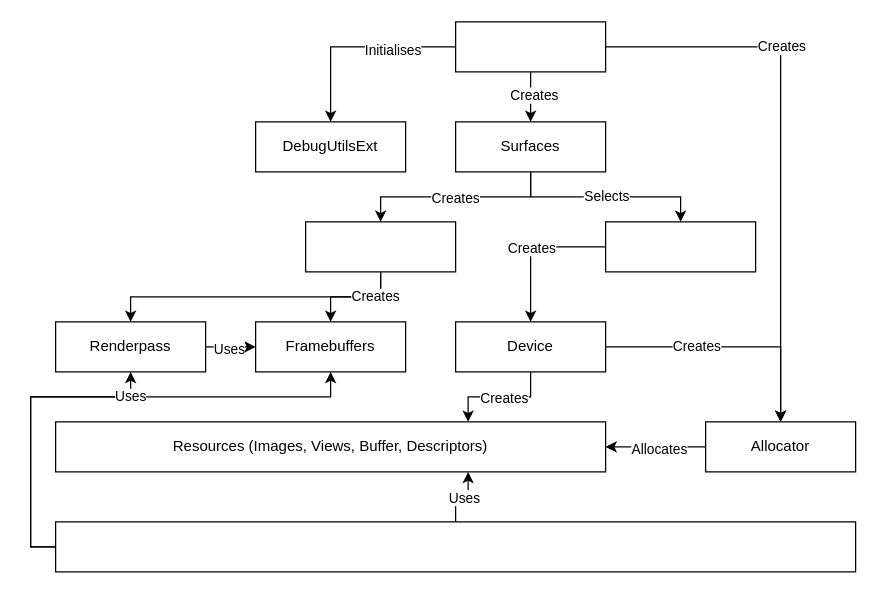
This 878x594 diagram has some shape labels left out. The box of each missing label's shape, as (x1, y1, x2, y2) in pixels:
Application: (54, 521, 856, 572)
Instance: (454, 21, 606, 72)
Physical Device: (604, 221, 756, 272)
Swapchain: (304, 221, 456, 272)
